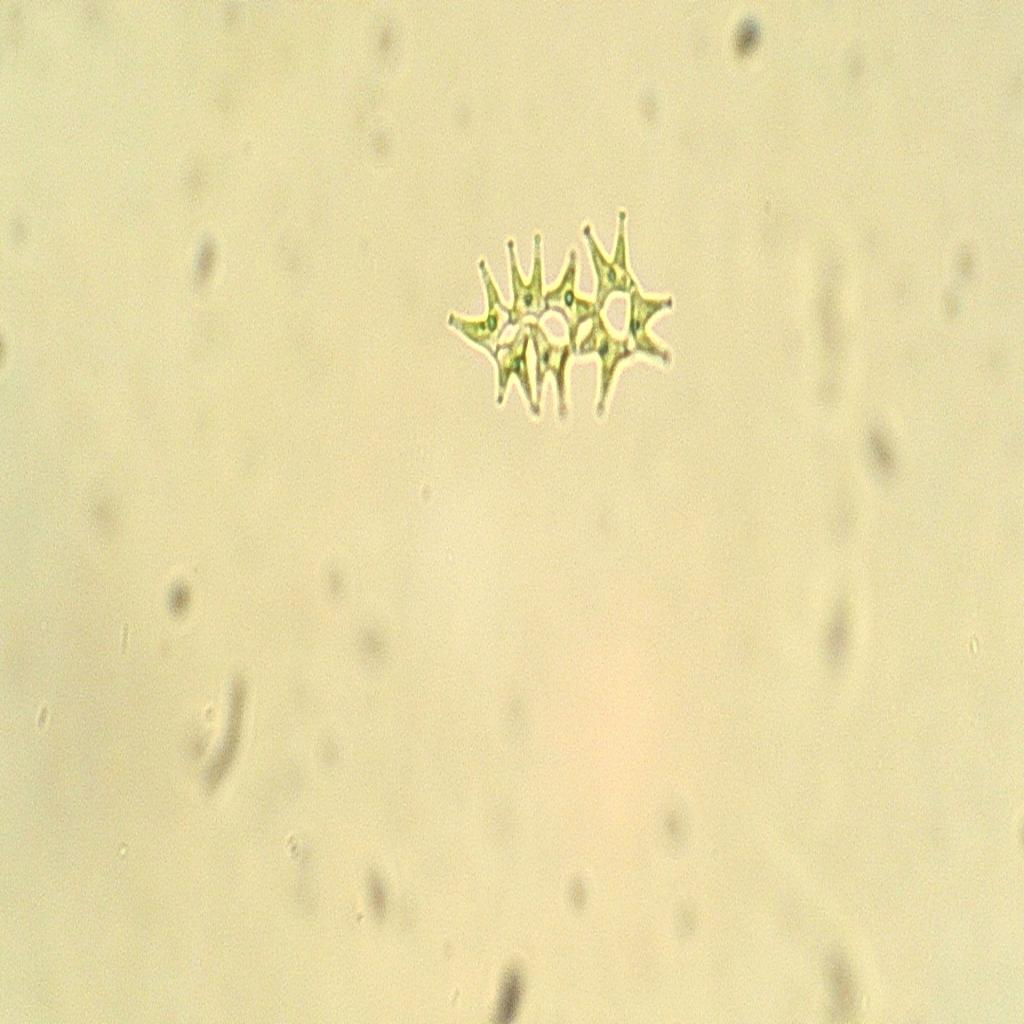Pediastrum_1TH: (425, 201, 708, 442)
